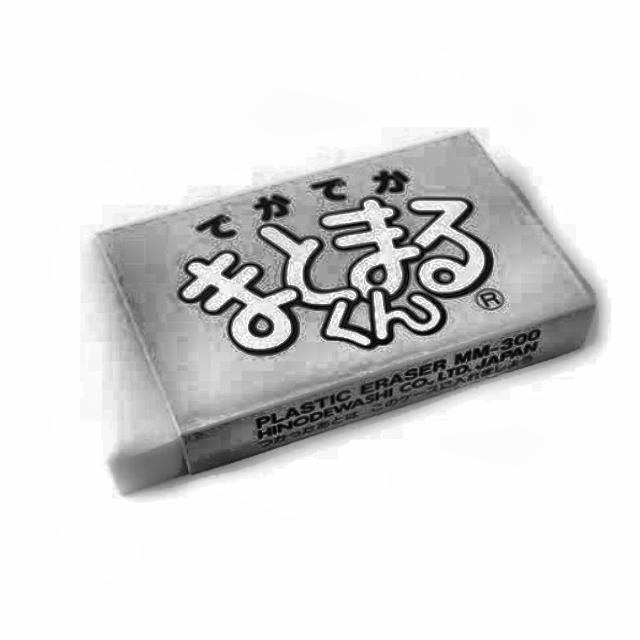eraser: (79, 124, 605, 504)
